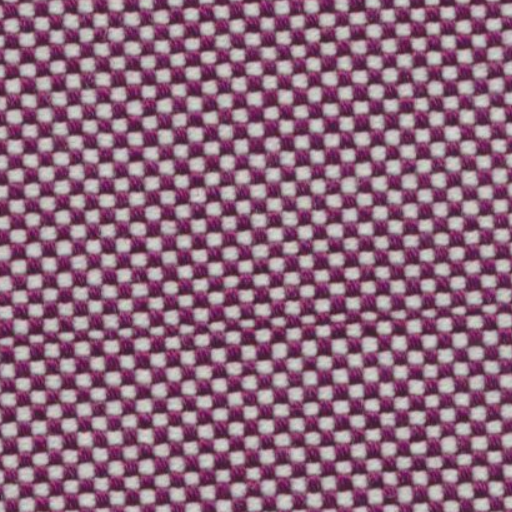TuoSha: (9, 298, 504, 346)
